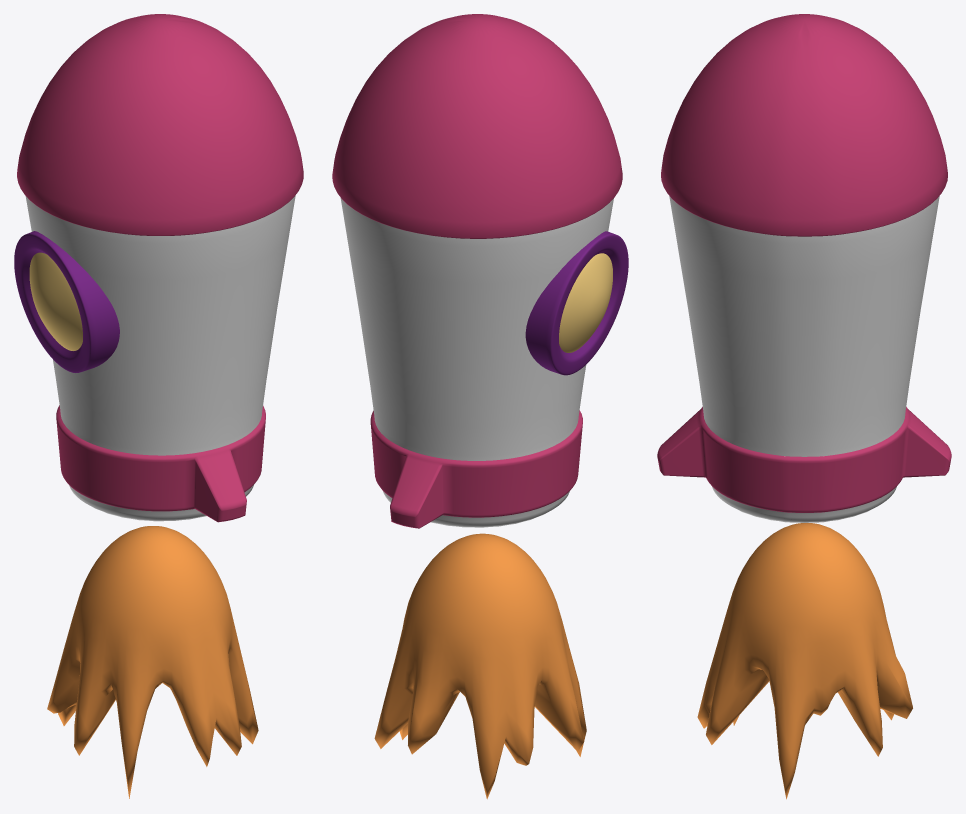
Rendered from rocket.fbx.
3 views of the same model, side by side, from view 1: azimuth 30°, elevation 25°; view 2: azimuth 150°, elevation 25°; view 3: azimuth 270°, elevation 25° (orthographic).
Visible parts, largest first — view 1: Sphere.010, Sphere.009, Sphere.012, Sphere.011, Cylinder, Cylinder.001; view 2: Sphere.010, Sphere.009, Sphere.012, Sphere.011, Cylinder, Cylinder.001; view 3: Sphere.009, Sphere.010, Sphere.012, Sphere.011.
Part boxes in pixels (left/top/right/bottom): Sphere.010: left=17, top=14, right=303, bottom=235; Sphere.009: left=25, top=195, right=295, bottom=521; Sphere.012: left=47, top=526, right=258, bottom=798; Sphere.011: left=56, top=405, right=265, bottom=522; Cylinder: left=14, top=231, right=119, bottom=372; Cylinder.001: left=29, top=252, right=82, bottom=350; Sphere.010: left=332, top=14, right=622, bottom=238; Sphere.009: left=340, top=198, right=613, bottom=527; Sphere.012: left=374, top=533, right=586, bottom=799; Sphere.011: left=370, top=410, right=582, bottom=528; Cylinder: left=525, top=231, right=628, bottom=375; Cylinder.001: left=559, top=253, right=612, bottom=352; Sphere.009: left=669, top=196, right=939, bottom=522; Sphere.010: left=661, top=14, right=947, bottom=236; Sphere.012: left=697, top=523, right=912, bottom=799; Sphere.011: left=657, top=407, right=951, bottom=512.
Size of the model in its own units: 244 by 693 by 250.
